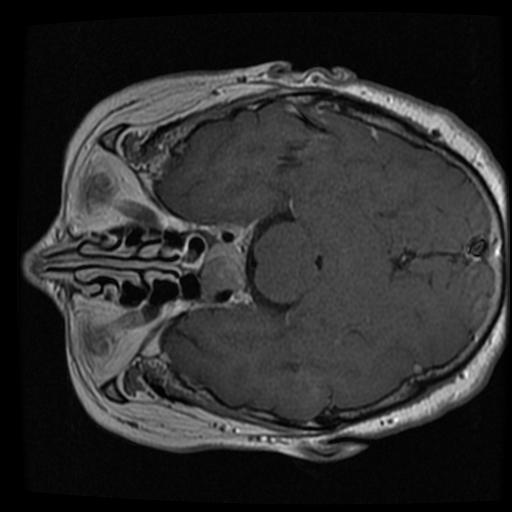pituitary tumour: (200, 243, 245, 301)
